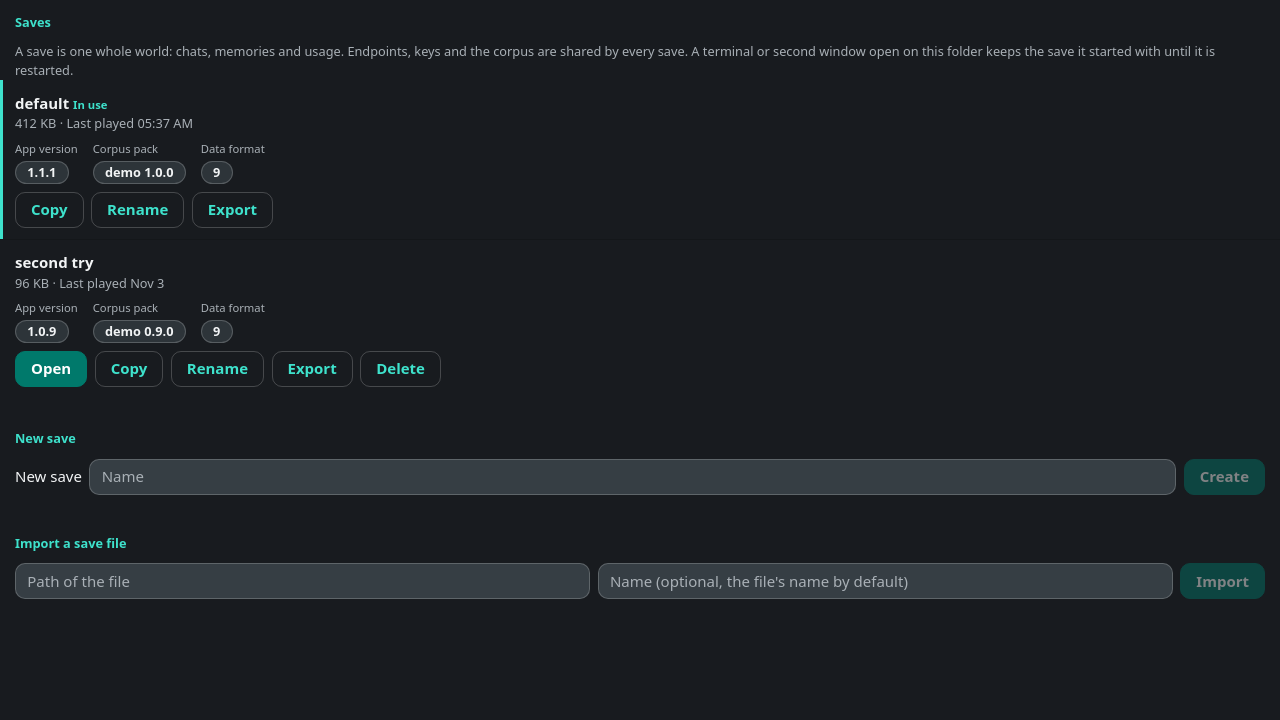
Scenario: a save last opened with other versions asks before loading, and going back opens nothing
expect the text "second try" is shown: met, box [15, 252, 93, 272]
Click the button "Open" at (51, 369), box [15, 351, 87, 387]
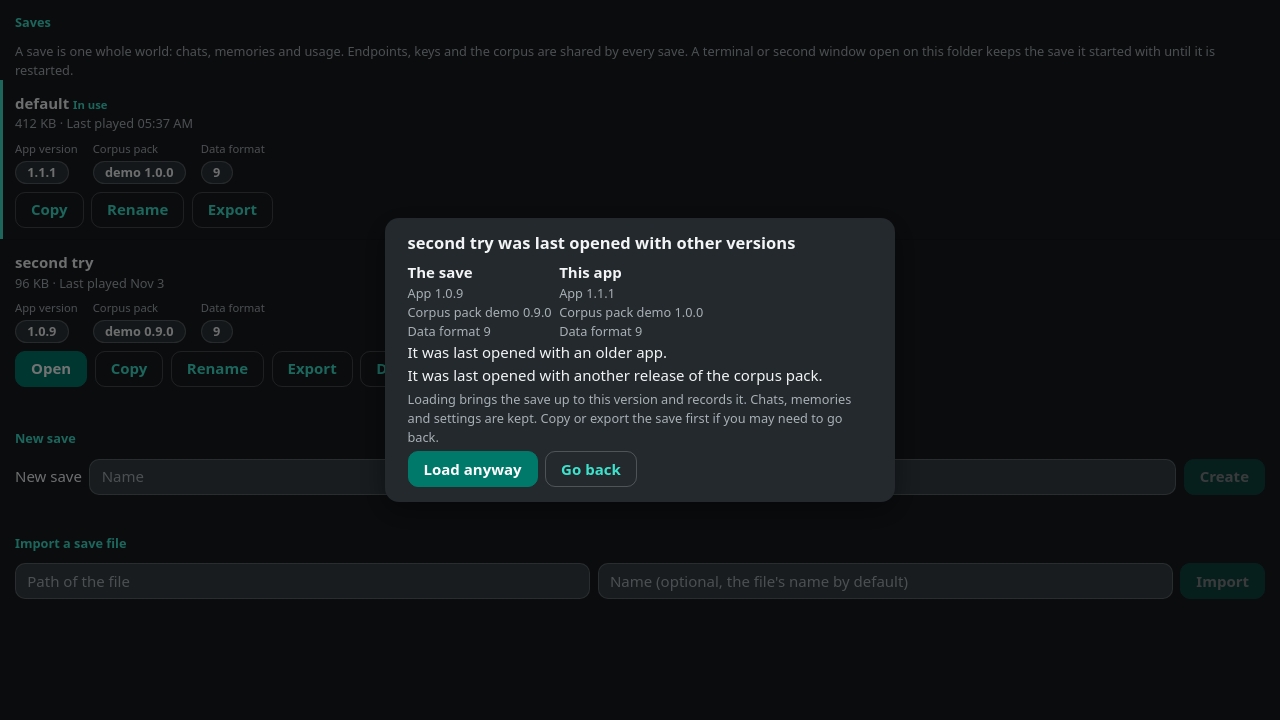
expect the list item "App 1.0.9" is shown: met, box [408, 284, 463, 302]
expect the number of list items "Data format 9" is 2: met, box [408, 322, 491, 340]; [559, 322, 642, 340]
expect the list item "It was last opened with an older app." is shown: met, box [408, 342, 667, 362]
Click the button "Go back" at (591, 469), box [545, 451, 637, 487]
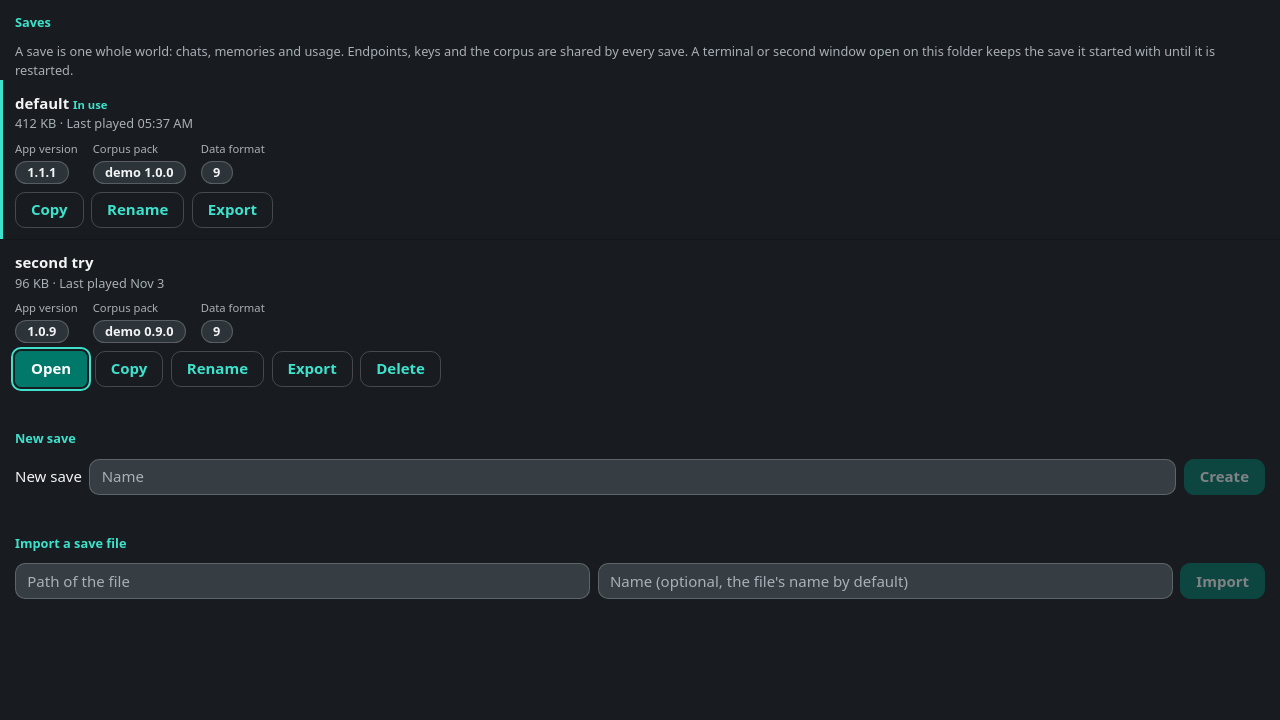
expect the dialog is gone: met
